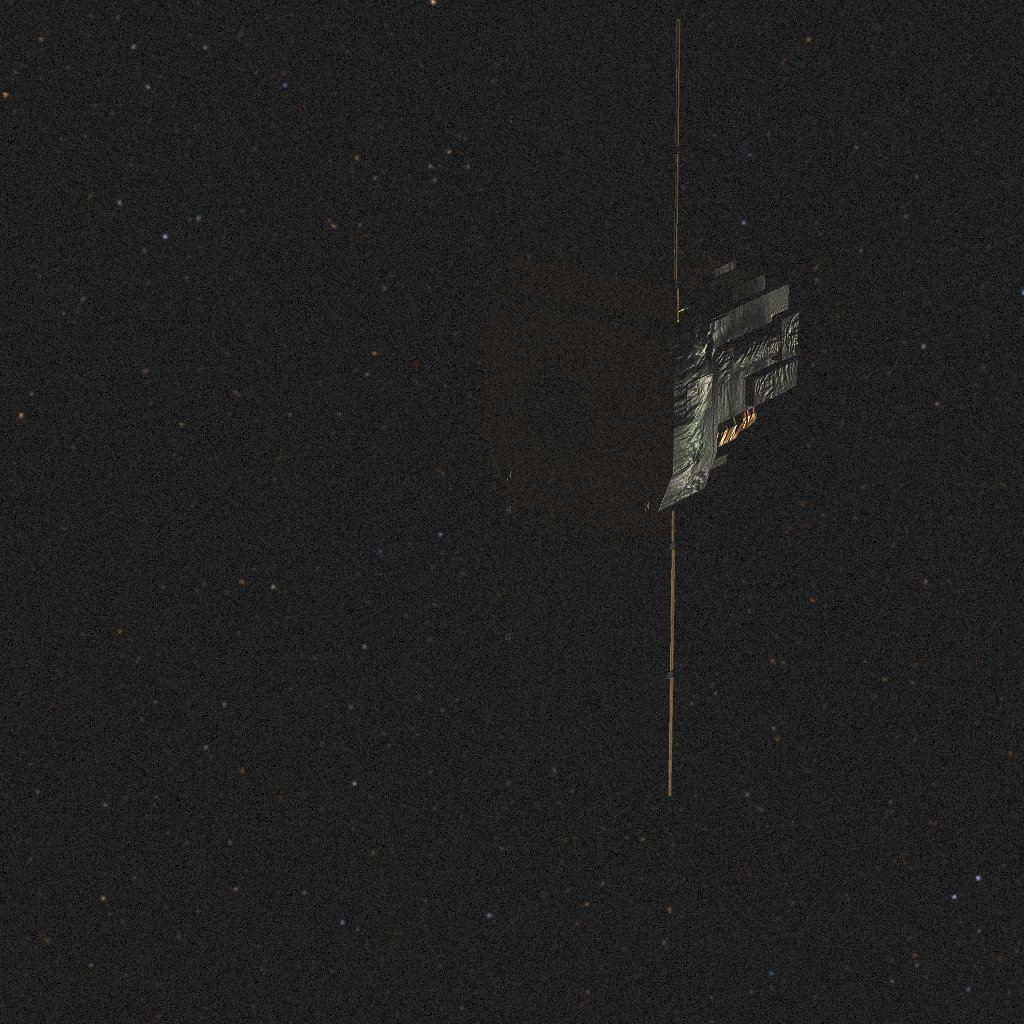soho: (448, 32, 733, 801)
